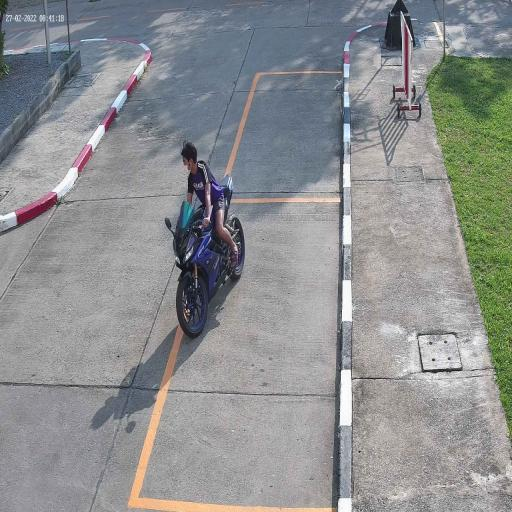motorcycle: (171, 201, 246, 338)
